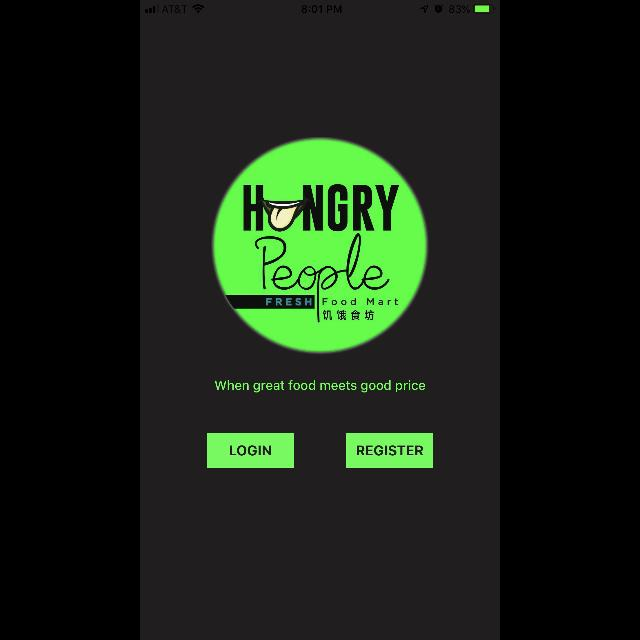image: (212, 138, 428, 354)
text: (214, 380, 426, 392)
textbutton: (346, 434, 434, 468), (208, 434, 294, 468)
uppertaskbar: (140, 0, 500, 14)
